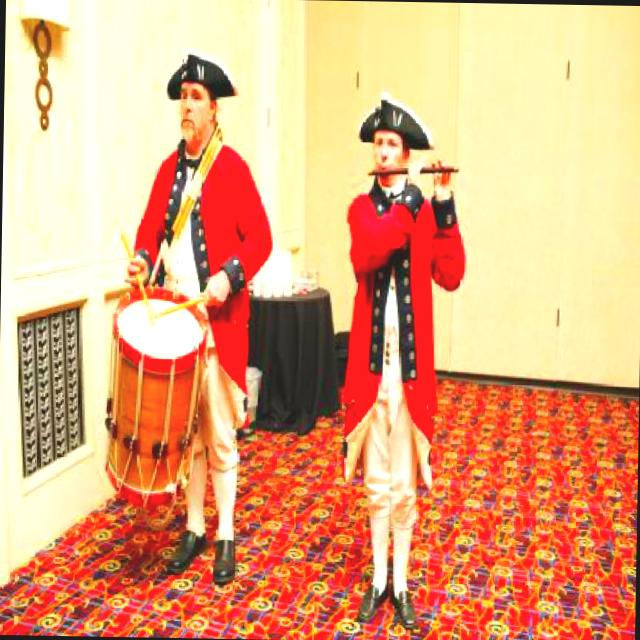Person: (116, 45, 276, 594), (329, 94, 458, 626)
